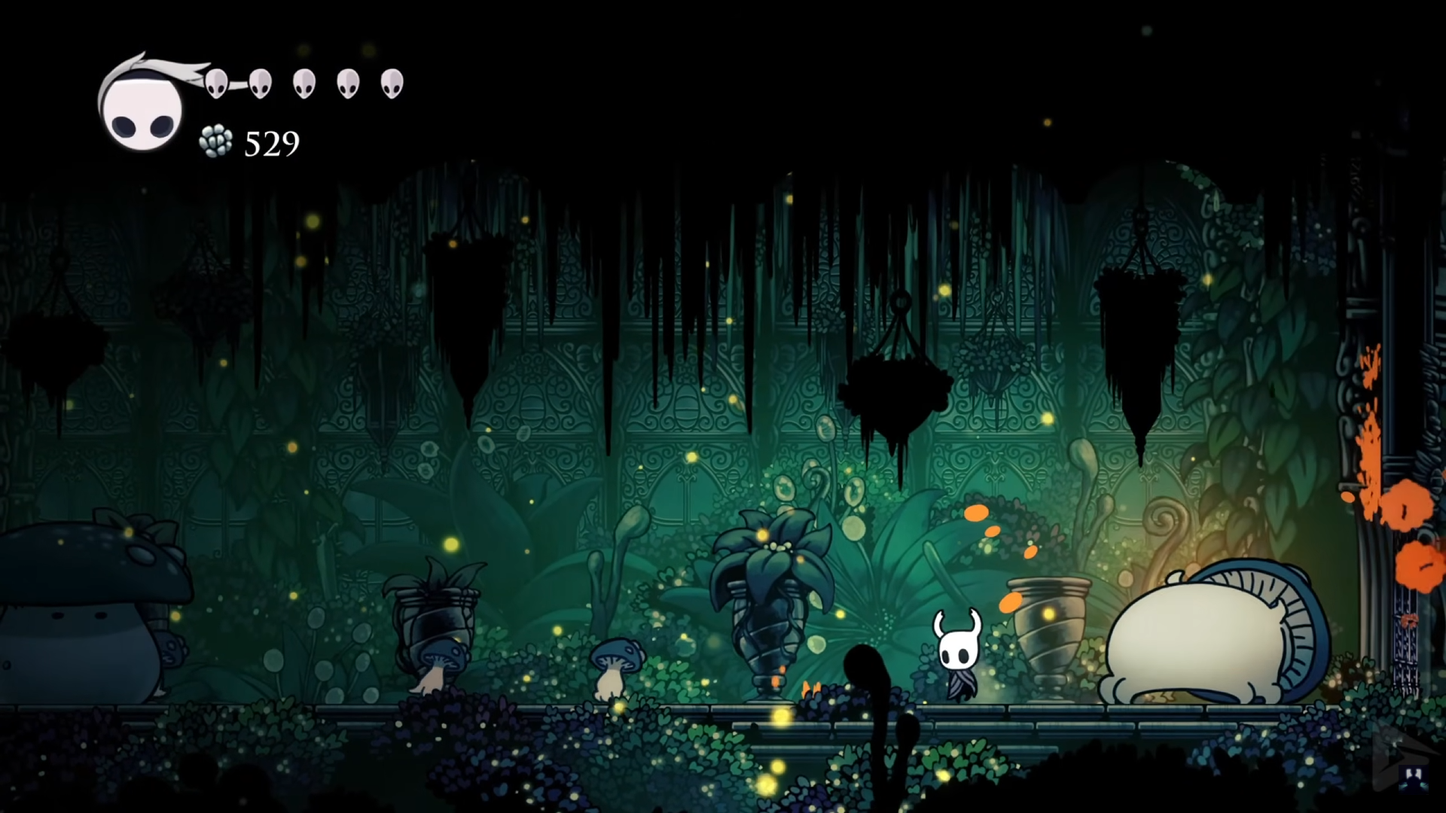HK: (932, 604, 985, 705)
